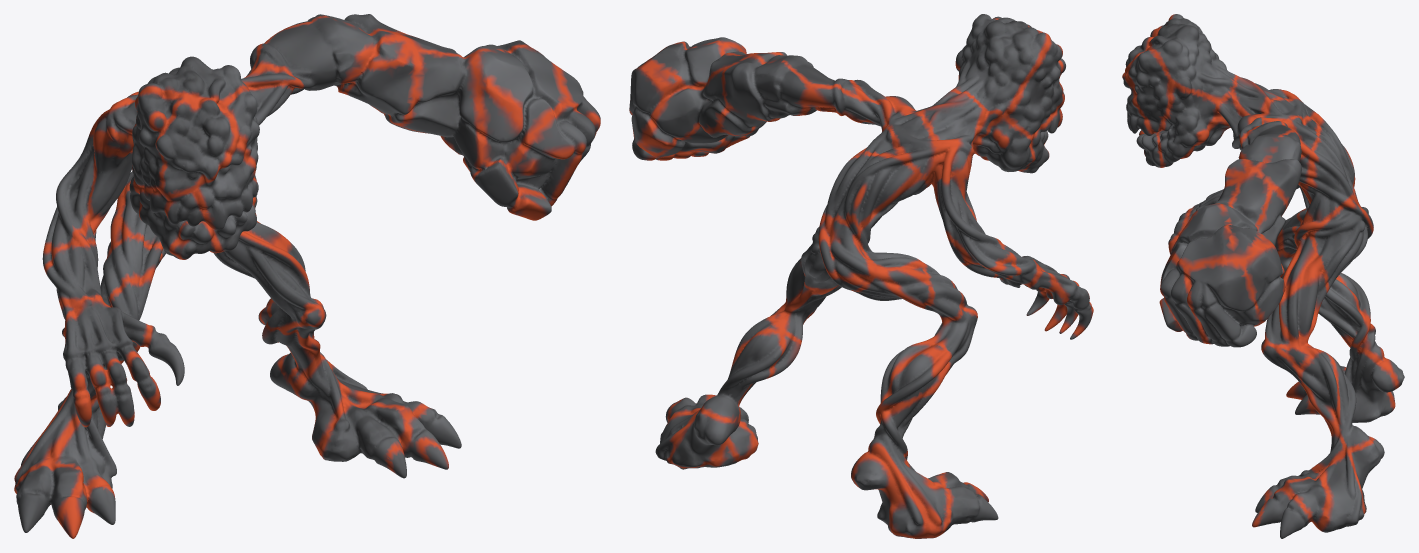
Rendered from GiganteElemental.fbx.
The picture shows the model from 3 angles, left to right: view 1: azimuth 30°, elevation 25°; view 2: azimuth 150°, elevation 25°; view 3: azimuth 270°, elevation 25°; orthographic projection. The views are drawn at different scales.
Parts seen in each view (by area): view 1: mesh_node; view 2: mesh_node; view 3: mesh_node.
Boxes of the visible parts, box(x1,y1,x2,y2) form: mesh_node: box(14, 14, 600, 538); mesh_node: box(629, 14, 1093, 538); mesh_node: box(1122, 14, 1404, 538).
Bounding box in the file's own units: 190 × 178 × 115.
